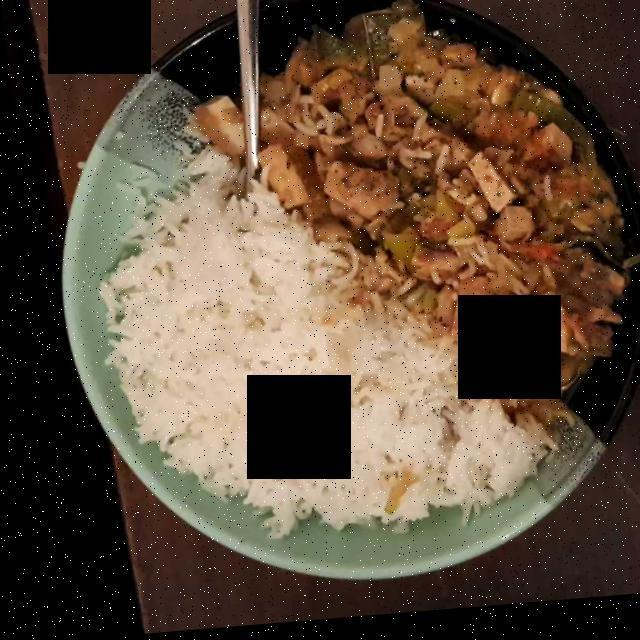rice: (101, 136, 540, 541)
tofu: (242, 133, 525, 356)
